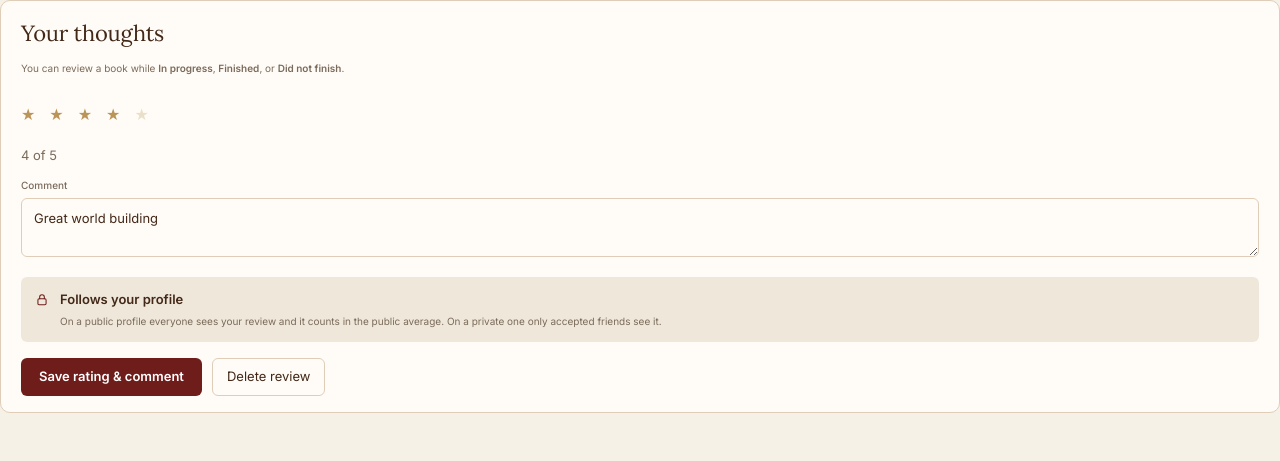
BookThoughtsPanel › shows the server message when saving fails
Click the button with class "save-button" at (111,377), box [21,358,202,396]
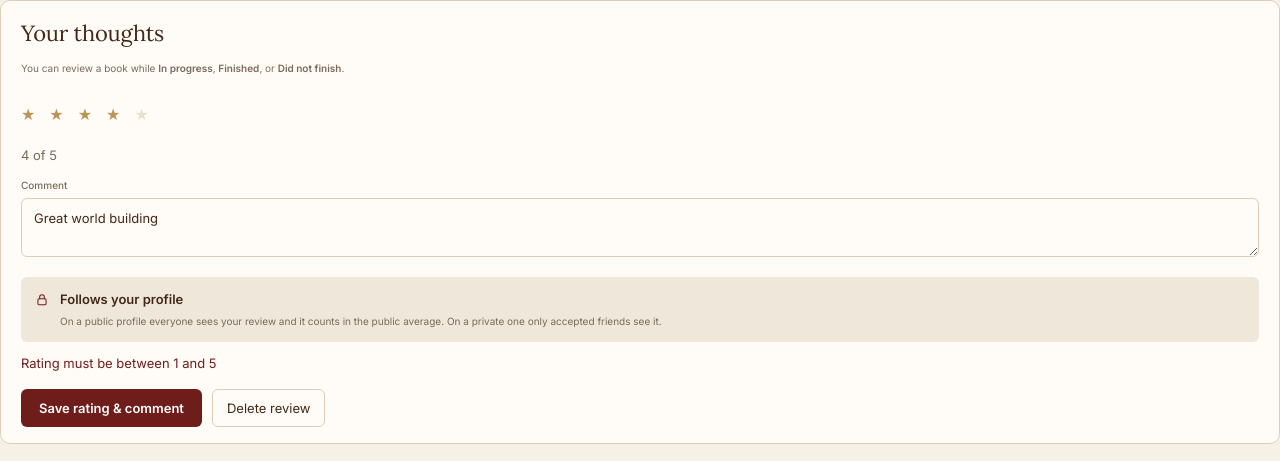
Expected: the message "Rating must be between 1 and 5" is shown, [21,355,216,371]
